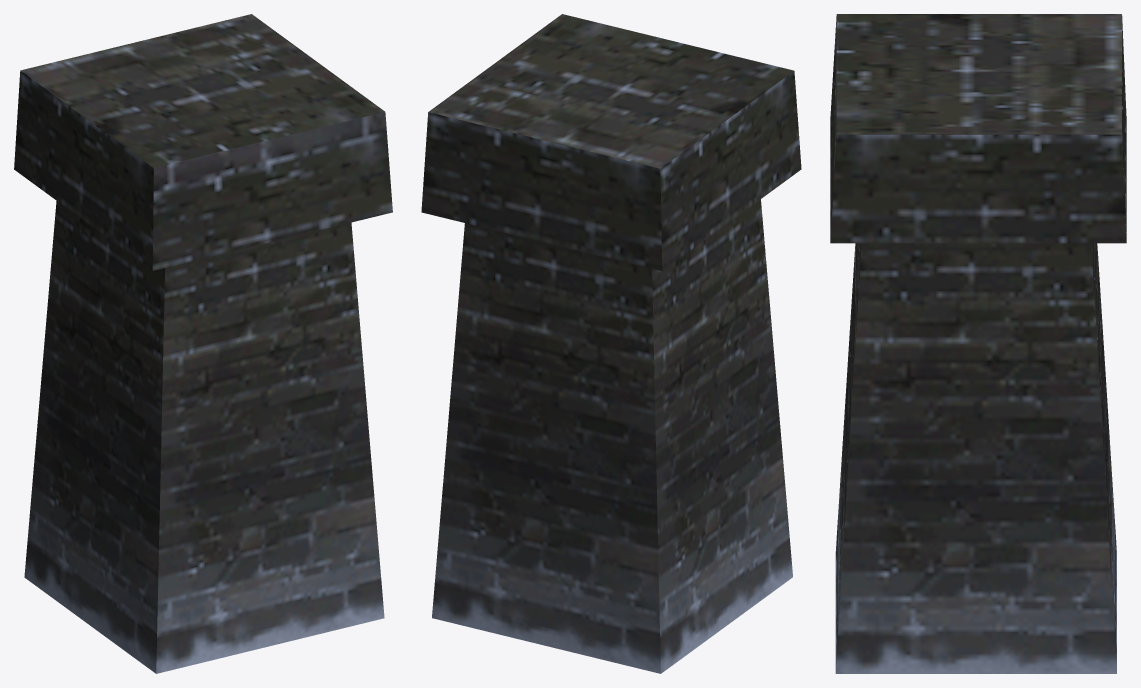
The model's file is oXZchengqiang02.FBX.
3 renders of one model, left to right at view 1: azimuth 30°, elevation 25°; view 2: azimuth 150°, elevation 25°; view 3: azimuth 270°, elevation 25°, orthographic. The views are drawn at different scales.
Visible parts, largest first — view 1: oXZchengqiang02; view 2: oXZchengqiang02; view 3: oXZchengqiang02.
Part boxes in pixels (box(x1,y1,x2,y2)): oXZchengqiang02: box(14, 14, 392, 673); oXZchengqiang02: box(421, 14, 801, 673); oXZchengqiang02: box(830, 14, 1126, 673).
Size of the model in its own units: 30.75 by 61.87 by 30.75.
Materials: 1 (1 with a texture image).
